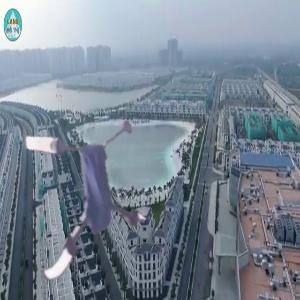drone: (9, 116, 163, 270)
